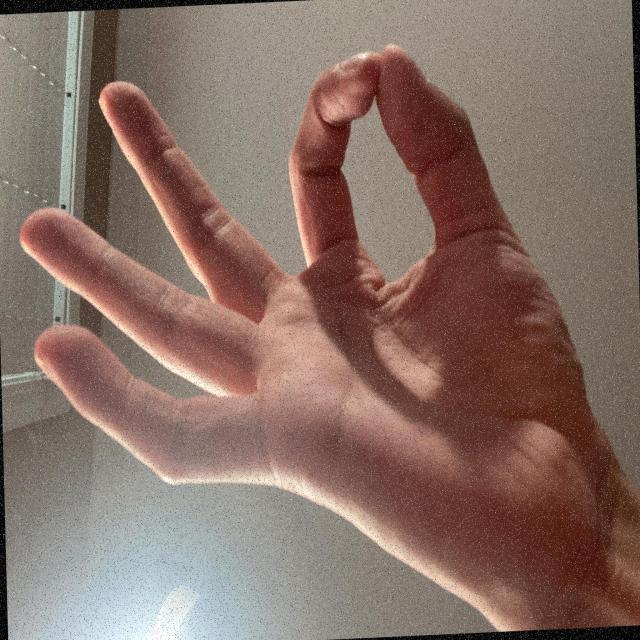F: (0, 19, 456, 640)
